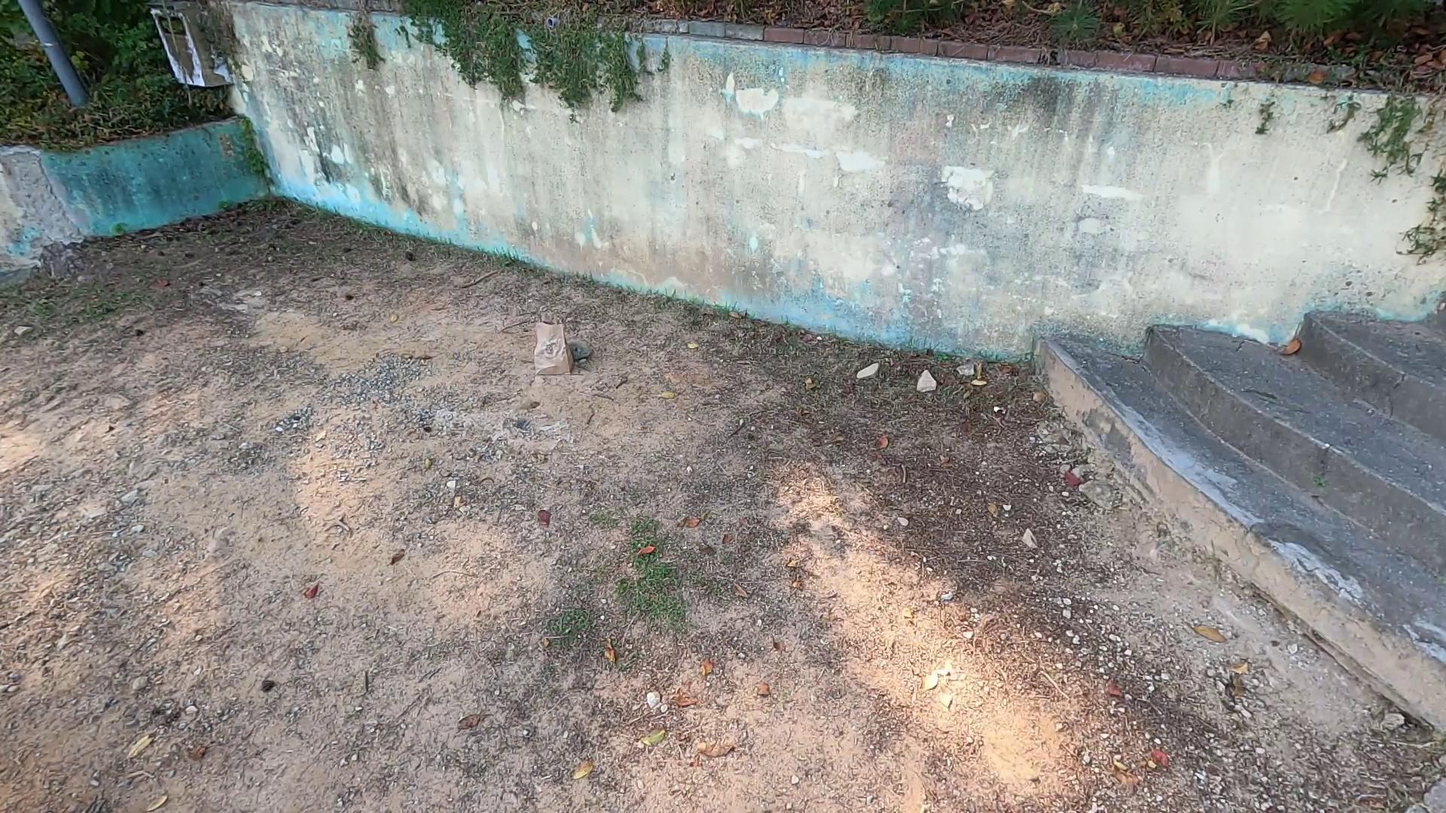trash: (530, 304, 577, 379)
